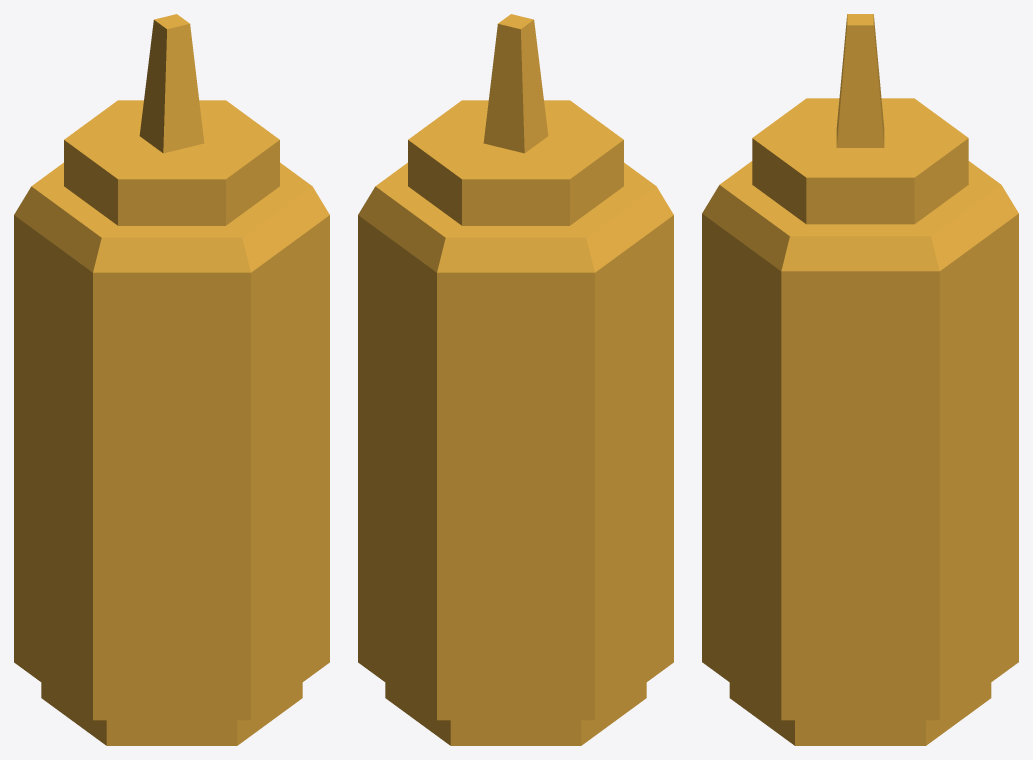
Rendered from bottleMusterd.fbx.
3 renders of one model, left to right at view 1: azimuth 30°, elevation 25°; view 2: azimuth 150°, elevation 25°; view 3: azimuth 270°, elevation 25°, orthographic.
Visible parts, largest first — view 1: bottleMusterd; view 2: bottleMusterd; view 3: bottleMusterd.
Boxes of the visible parts, box(x1,y1,x2,y2) form: bottleMusterd: box(14, 14, 329, 745); bottleMusterd: box(358, 14, 673, 745); bottleMusterd: box(702, 14, 1018, 745).
Bounding box in the file's own units: 1.44 × 3.93 × 1.66.
